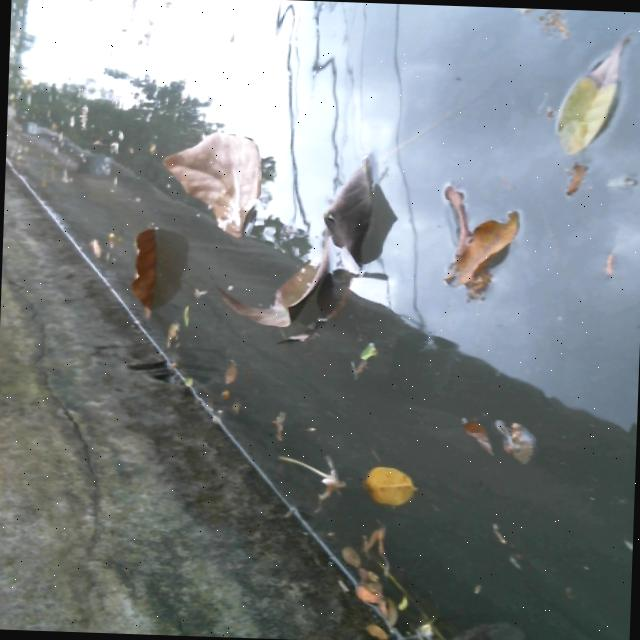Big-leaf: (217, 148, 388, 342), (152, 113, 267, 240), (435, 175, 527, 313), (126, 216, 169, 328)
Small-leaf: (534, 14, 631, 167), (345, 448, 430, 515), (430, 401, 494, 455), (498, 416, 546, 476), (167, 303, 213, 342), (207, 355, 245, 389), (78, 232, 111, 268), (349, 576, 381, 605), (358, 617, 389, 640)
